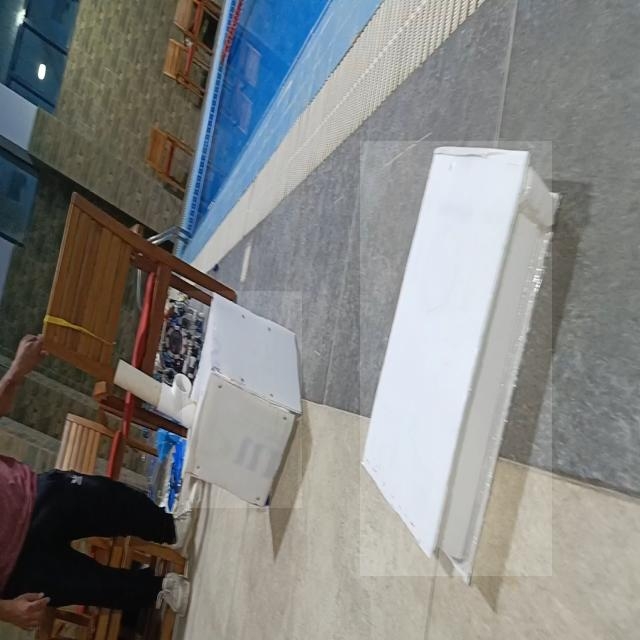Cube: (182, 291, 302, 508)
Cuboid: (360, 141, 552, 576)
